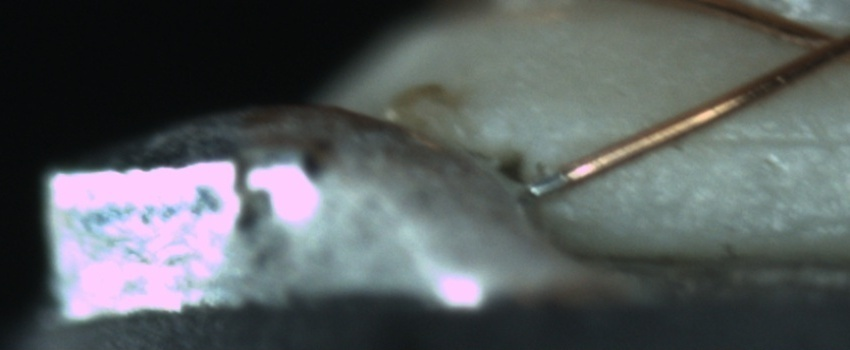CL: (780, 14, 848, 75)
DL: (618, 106, 848, 172)
TS: (525, 168, 568, 198)
